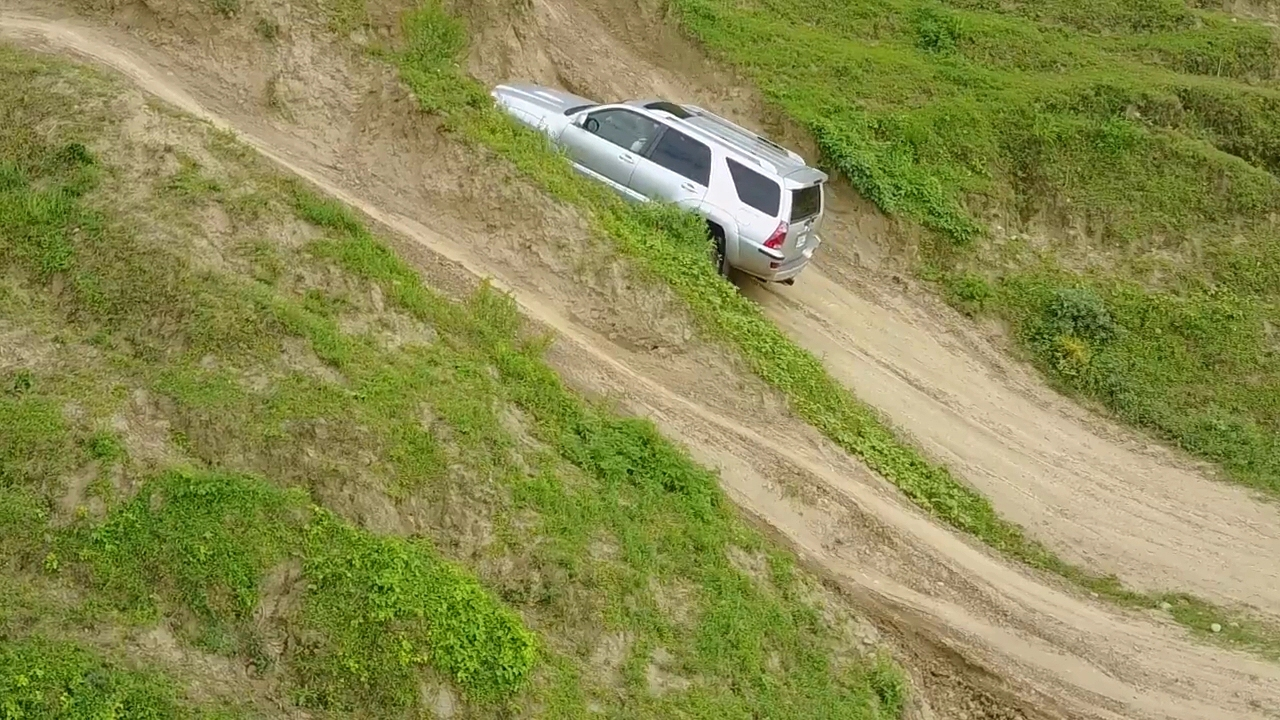araba: (482, 79, 828, 294)
